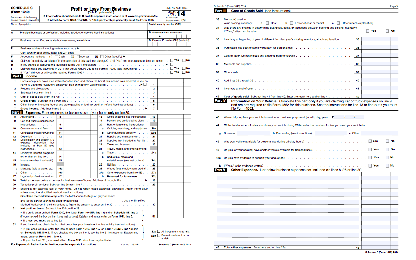checkbox: (289, 21, 294, 26), (365, 28, 370, 33), (54, 54, 58, 59), (76, 54, 80, 59), (157, 229, 161, 234), (265, 21, 269, 26), (336, 20, 340, 25), (385, 28, 389, 33), (385, 139, 389, 144), (368, 139, 372, 144), (368, 147, 372, 152), (368, 155, 372, 160), (385, 147, 389, 152), (385, 155, 389, 160), (385, 163, 389, 168), (368, 163, 372, 168), (100, 54, 103, 59), (157, 233, 160, 238), (170, 58, 173, 62), (182, 58, 185, 62), (182, 66, 185, 70), (182, 70, 185, 74), (170, 70, 173, 74), (170, 66, 173, 70), (170, 62, 173, 66), (143, 82, 146, 86)
textbox: (9, 46, 192, 55), (10, 22, 149, 31), (10, 30, 149, 39), (10, 38, 149, 47), (156, 185, 187, 207), (79, 45, 191, 51), (80, 50, 192, 55), (147, 37, 193, 47), (62, 137, 91, 151), (156, 205, 185, 219), (147, 22, 192, 31), (147, 30, 192, 39), (360, 49, 392, 59), (360, 57, 392, 67), (360, 65, 392, 75), (360, 73, 392, 83), (360, 81, 392, 91), (360, 89, 392, 99), (360, 171, 392, 181), (360, 179, 392, 189), (361, 196, 393, 206), (360, 204, 392, 214), (361, 212, 393, 222), (360, 220, 392, 230), (360, 228, 392, 238), (156, 77, 185, 87), (62, 150, 91, 160), (360, 41, 392, 50), (361, 188, 393, 197), (360, 237, 392, 246), (63, 161, 91, 171), (157, 153, 185, 163), (156, 146, 185, 155), (157, 122, 186, 131), (63, 118, 91, 127), (360, 244, 391, 251), (156, 85, 185, 92), (157, 181, 186, 188), (182, 186, 191, 207), (361, 36, 391, 42), (156, 89, 185, 95), (156, 93, 185, 99), (156, 97, 185, 103), (156, 101, 185, 107), (156, 105, 185, 111), (156, 113, 185, 119), (156, 117, 185, 123), (156, 129, 185, 135), (156, 133, 185, 139), (156, 137, 185, 143), (156, 141, 185, 147), (156, 161, 185, 167), (156, 165, 185, 171), (156, 169, 185, 175), (157, 173, 186, 179), (156, 177, 185, 183), (62, 173, 91, 179), (63, 169, 92, 175), (63, 157, 92, 163), (62, 133, 91, 139), (62, 130, 91, 136), (62, 125, 91, 131), (62, 114, 91, 120), (183, 205, 191, 220), (90, 138, 98, 152), (389, 179, 399, 189), (389, 220, 399, 230), (389, 228, 399, 238), (390, 237, 400, 247), (182, 122, 193, 131), (182, 146, 193, 155), (182, 154, 193, 163), (390, 81, 399, 91), (390, 73, 399, 83), (390, 65, 399, 75), (390, 49, 399, 59), (390, 40, 399, 50), (390, 171, 399, 181), (390, 188, 399, 198), (390, 196, 399, 206), (390, 204, 399, 214), (390, 212, 399, 222), (89, 148, 97, 159), (183, 78, 192, 87), (390, 90, 399, 99), (390, 57, 399, 66), (90, 117, 98, 127), (90, 162, 98, 171), (390, 244, 400, 251), (182, 102, 192, 108), (182, 129, 192, 135), (182, 133, 192, 139), (182, 165, 192, 171), (182, 177, 192, 183), (90, 133, 98, 140), (183, 85, 192, 91), (183, 113, 192, 119), (183, 117, 192, 123), (183, 181, 192, 187), (390, 36, 399, 42), (182, 90, 192, 95), (182, 94, 192, 99), (182, 98, 192, 103), (182, 106, 192, 111), (182, 138, 192, 143), (182, 142, 192, 147), (182, 174, 192, 179), (90, 169, 98, 175), (90, 174, 98, 180), (90, 129, 98, 135), (90, 126, 98, 132), (90, 113, 98, 119), (183, 162, 192, 167), (183, 170, 192, 175), (90, 158, 98, 163)
textline: (215, 199, 360, 206), (215, 232, 360, 239), (214, 231, 359, 238), (214, 191, 360, 197), (215, 208, 361, 214), (215, 216, 361, 222), (215, 224, 361, 230), (215, 175, 360, 181), (215, 183, 360, 189), (77, 198, 123, 203), (361, 131, 400, 136), (236, 131, 271, 136), (115, 194, 149, 199), (331, 114, 365, 119), (314, 131, 348, 136)
